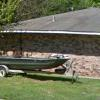Boat: (0, 38, 74, 86)
